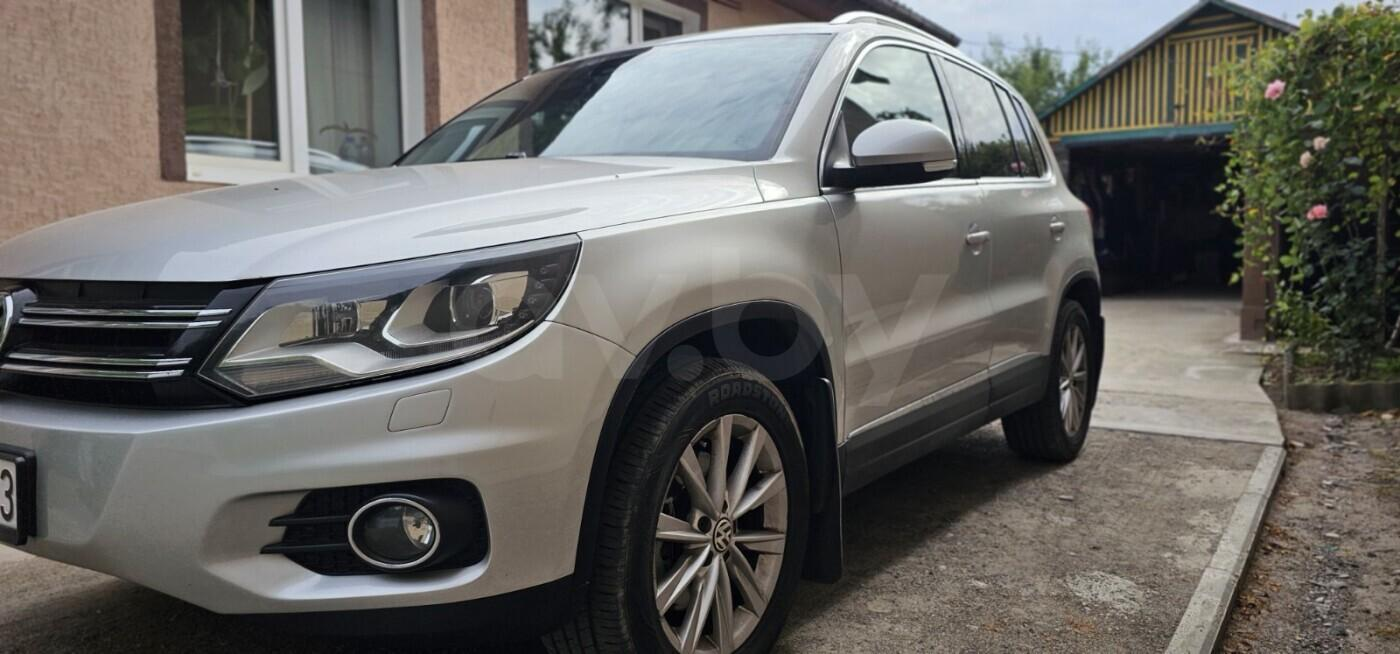Tiguan_2011-2018: (0, 11, 1112, 654)
